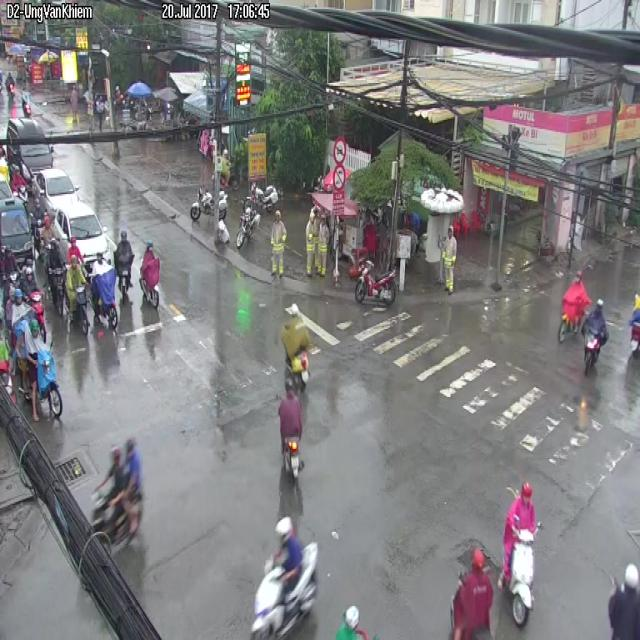car: (355, 259, 397, 305)
traffic-light: (35, 169, 108, 256)
